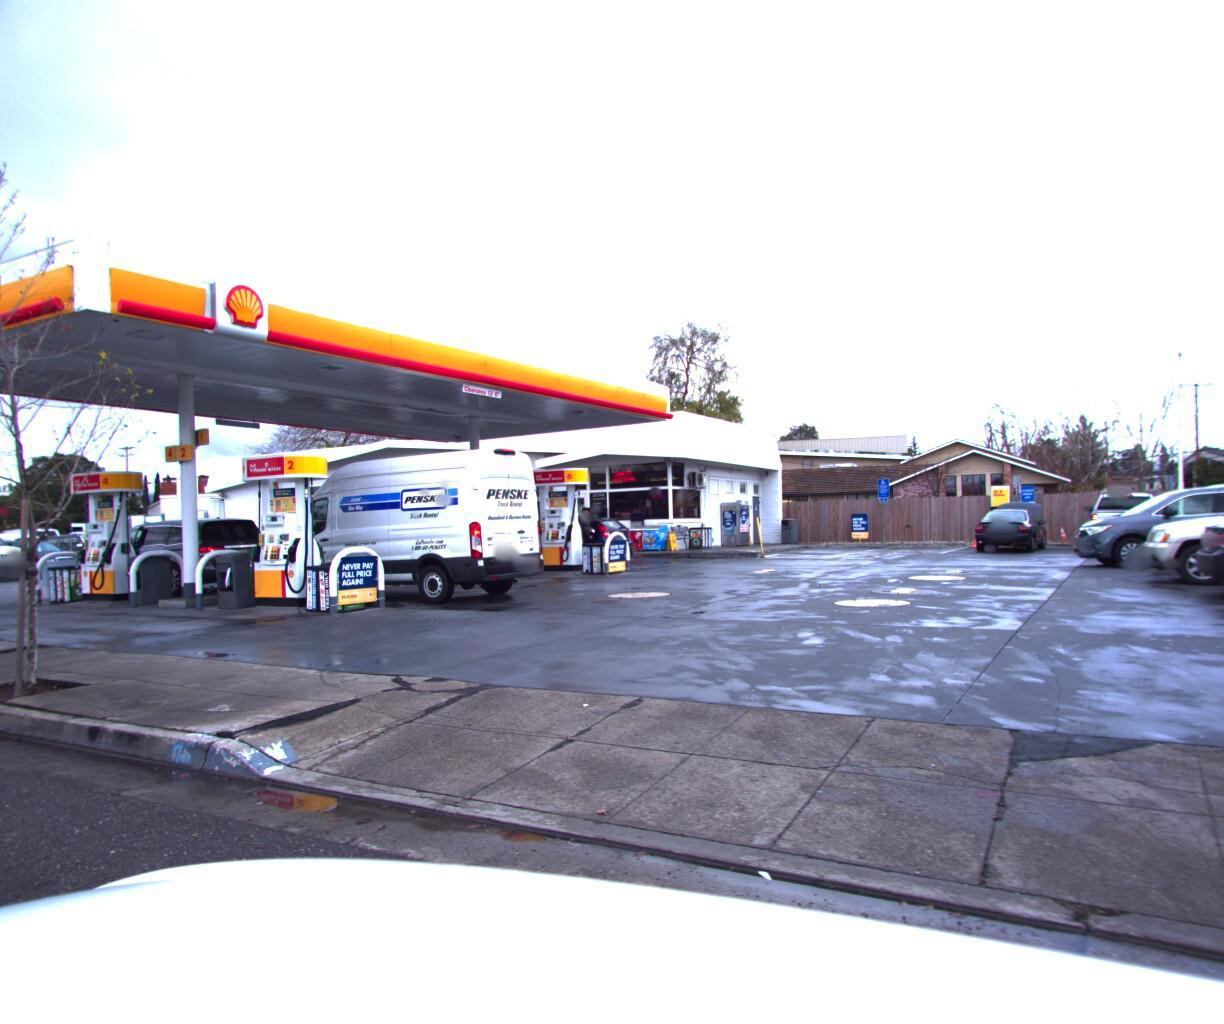car: (1057, 475, 1224, 573), (78, 517, 280, 596), (1130, 471, 1224, 590), (491, 517, 641, 571), (1178, 482, 1224, 610), (1082, 490, 1169, 556), (45, 532, 152, 577), (0, 539, 97, 582), (0, 533, 84, 581), (970, 508, 1044, 555), (0, 526, 44, 586)
truck: (253, 440, 550, 603)
